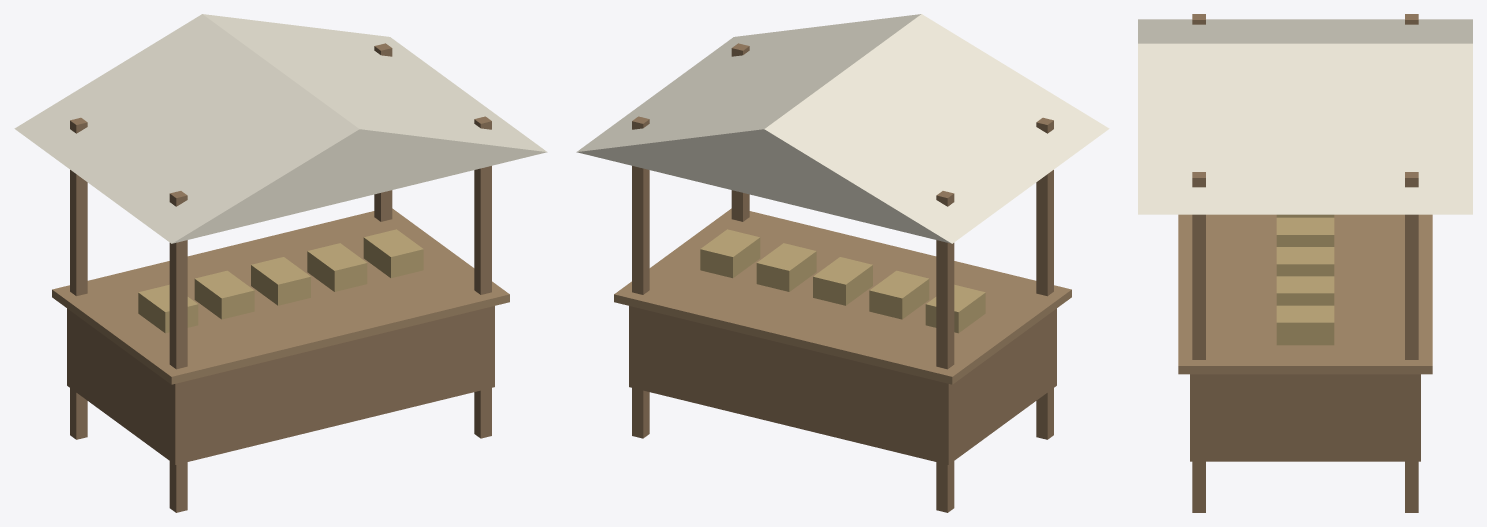
File: market1.glb
3 renders of one model, left to right at view 1: azimuth 30°, elevation 25°; view 2: azimuth 150°, elevation 25°; view 3: azimuth 270°, elevation 25°, orthographic. The views are drawn at different scales.
Parts seen in each view (by area): view 1: Market; view 2: Market; view 3: Market.
Boxes of the visible parts, x1,y1,x2,y2 form: Market: [14, 14, 547, 512]; Market: [576, 14, 1109, 512]; Market: [1138, 14, 1472, 512].
Bounding box in the file's own units: 4 × 3.7 × 2.9.
